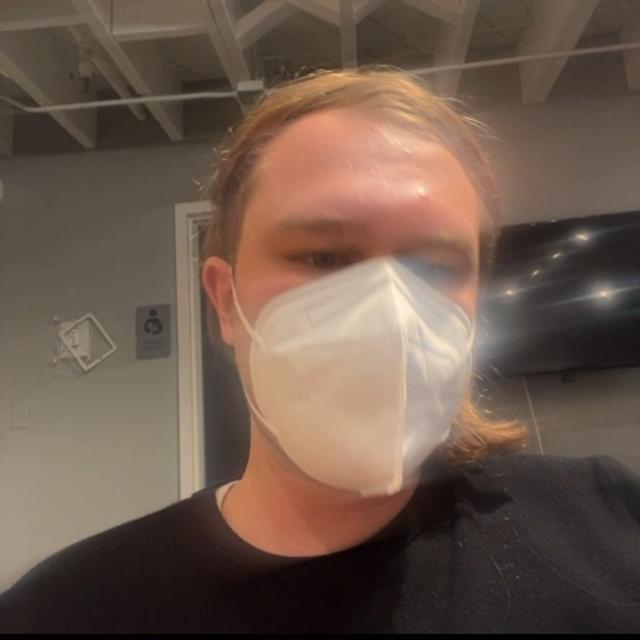no-helmet: (153, 61, 534, 572)
